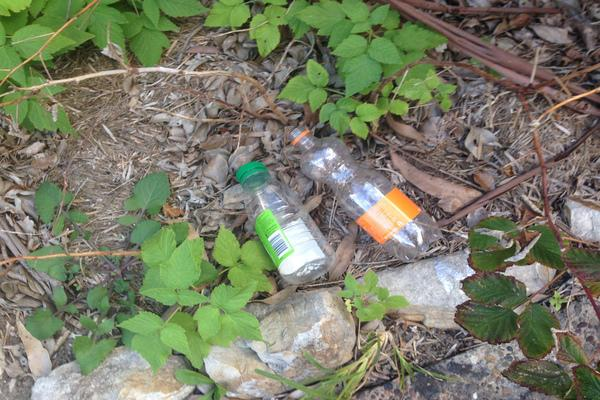Plastic Bottle: (289, 126, 443, 261), (235, 161, 334, 285)
